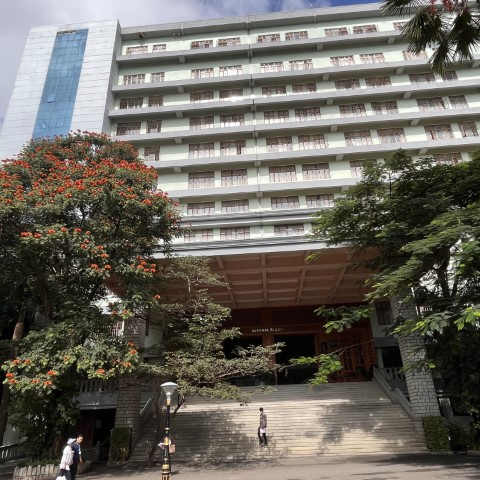Central Block: (22, 23, 480, 480)
